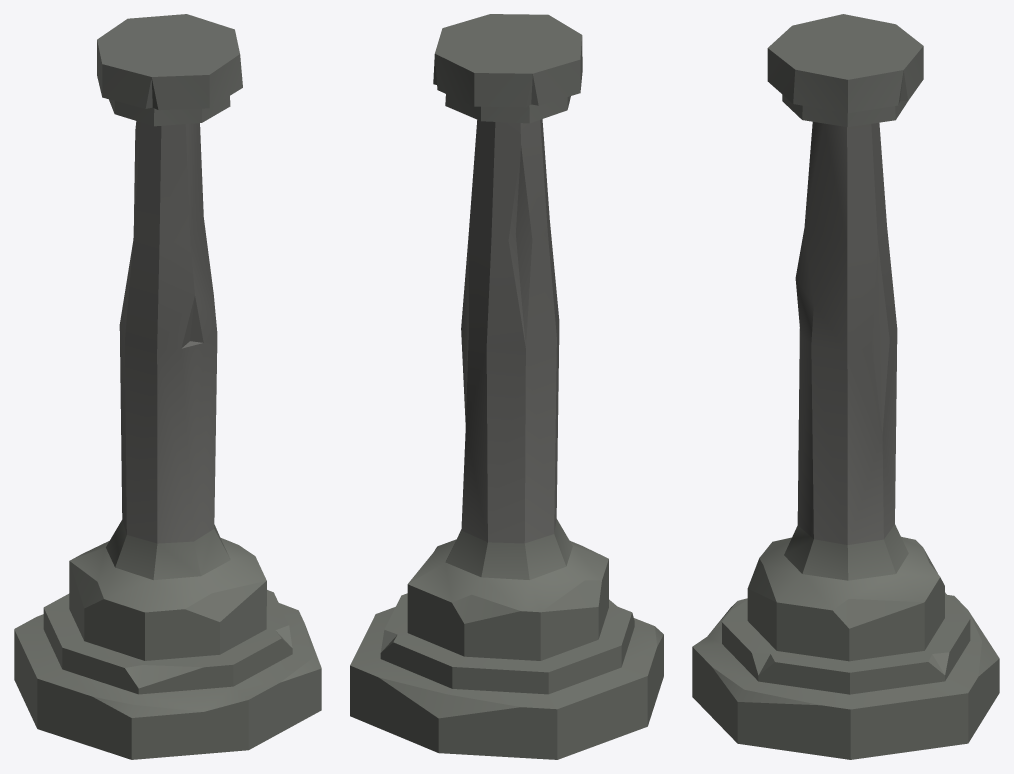
File: EA_Bld_Column_01a.gltf
The picture shows the model from 3 angles, left to right: view 1: azimuth 30°, elevation 25°; view 2: azimuth 150°, elevation 25°; view 3: azimuth 270°, elevation 25°; orthographic projection.
Visible parts, largest first — view 1: EA_Bld_Column_01a; view 2: EA_Bld_Column_01a; view 3: EA_Bld_Column_01a.
Part boxes in pixels (bbox=[...]): EA_Bld_Column_01a: bbox=[14, 14, 321, 759]; EA_Bld_Column_01a: bbox=[350, 14, 663, 759]; EA_Bld_Column_01a: bbox=[692, 14, 999, 759].
Size of the model in its own units: 5.21 by 12.12 by 5.21.
Materials: 1 (1 with a texture image).
